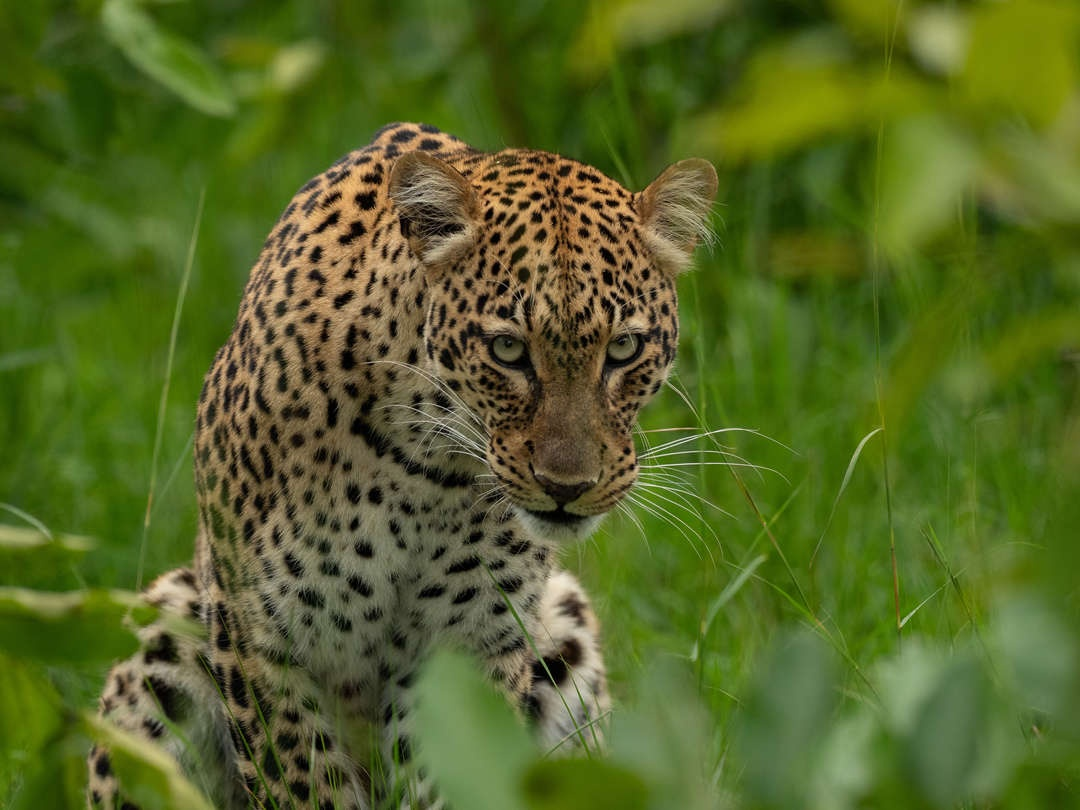leopard: (81, 116, 734, 810)
